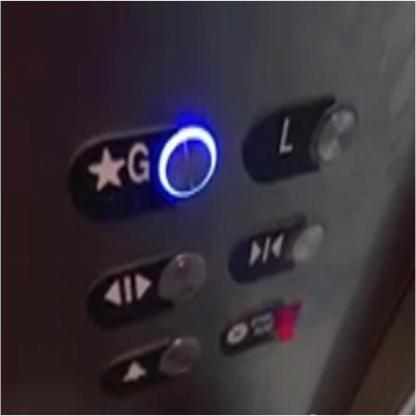L: (240, 86, 361, 186)
alarm: (103, 332, 202, 399)
close: (227, 209, 329, 282)
open: (86, 246, 207, 330)
sG: (66, 115, 222, 223)
stop: (216, 295, 307, 359)
